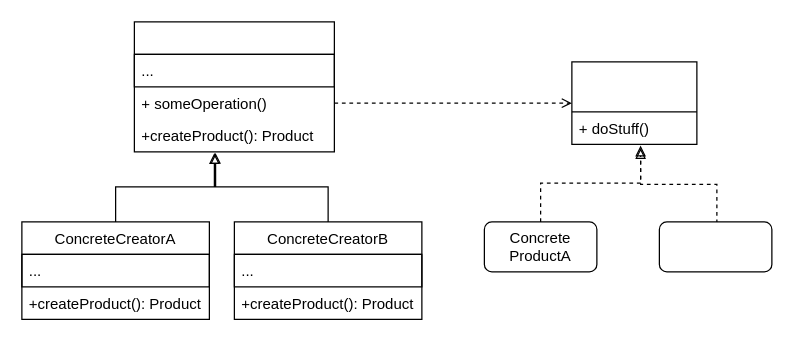
Image size: 794x345. Some labels were removed from this diagram. Here are the shapes that lost their labels. From the top down, the box of each, then its label:
(133, 21, 334, 152): Creator
(571, 61, 697, 144): "interface" Product
(658, 221, 772, 272): Concrete ProductB
